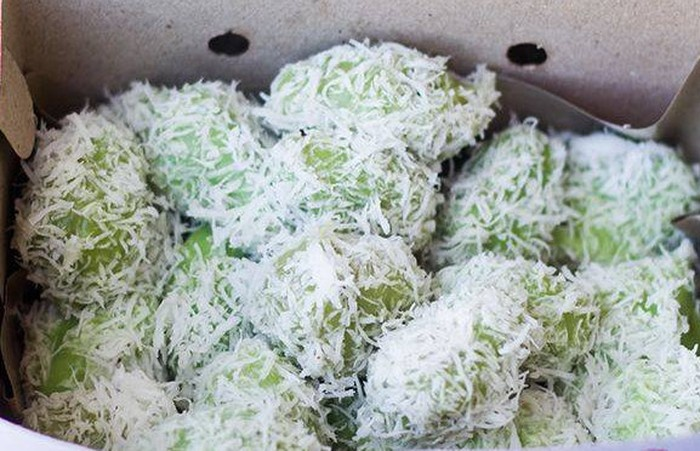klepon: (222, 201, 431, 367)
